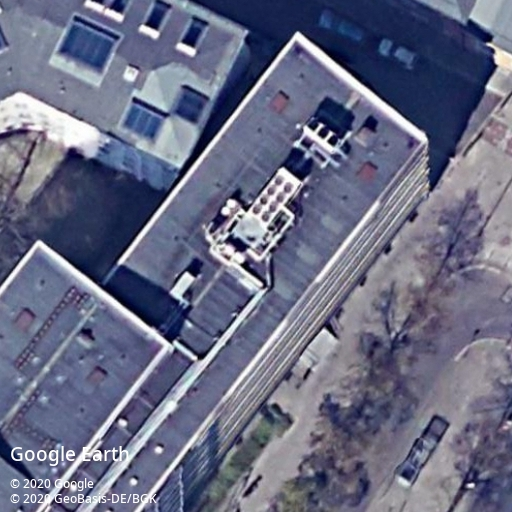Chiller: (243, 166, 302, 231), (303, 117, 342, 151)
